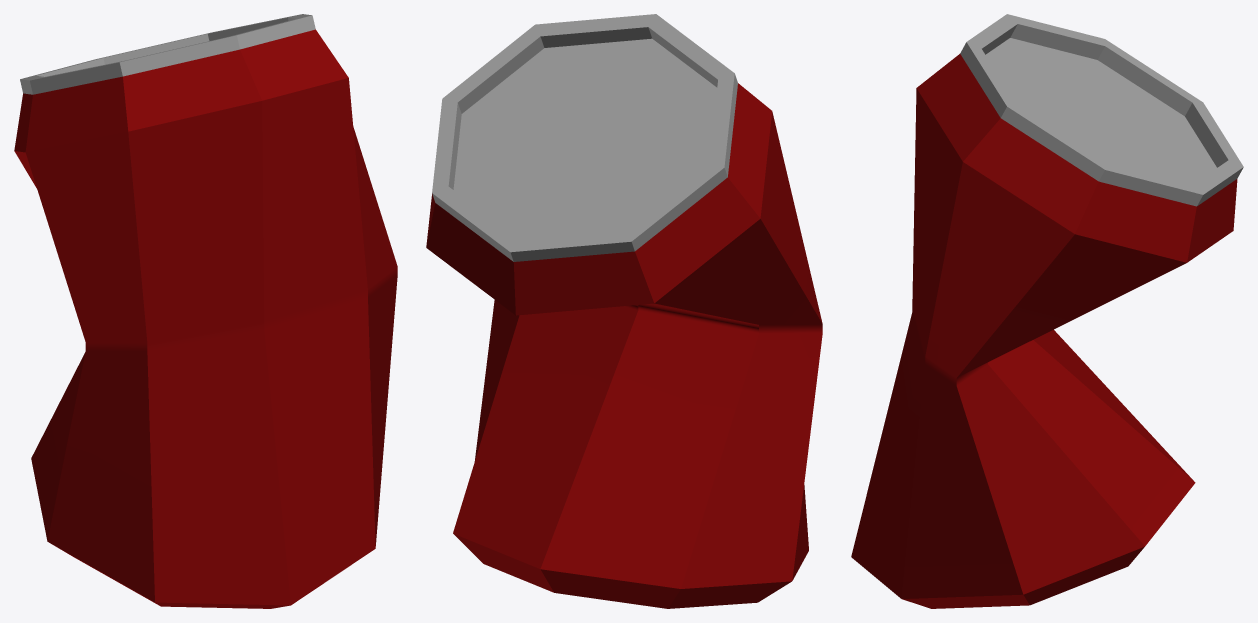
Rendered from SM_CrushedCan.fbx.
3 views of the same model, side by side, from view 1: azimuth 30°, elevation 25°; view 2: azimuth 150°, elevation 25°; view 3: azimuth 270°, elevation 25° (orthographic). The views are drawn at different scales.
Visible parts, largest first — view 1: pCylinder1; view 2: pCylinder1; view 3: pCylinder1.
Part boxes in pixels (left/top/right/bottom): pCylinder1: left=14, top=14, right=397, bottom=608; pCylinder1: left=426, top=14, right=822, bottom=608; pCylinder1: left=851, top=14, right=1243, bottom=608.
Bounding box in the file's own units: 5.46 × 8.97 × 5.97.
